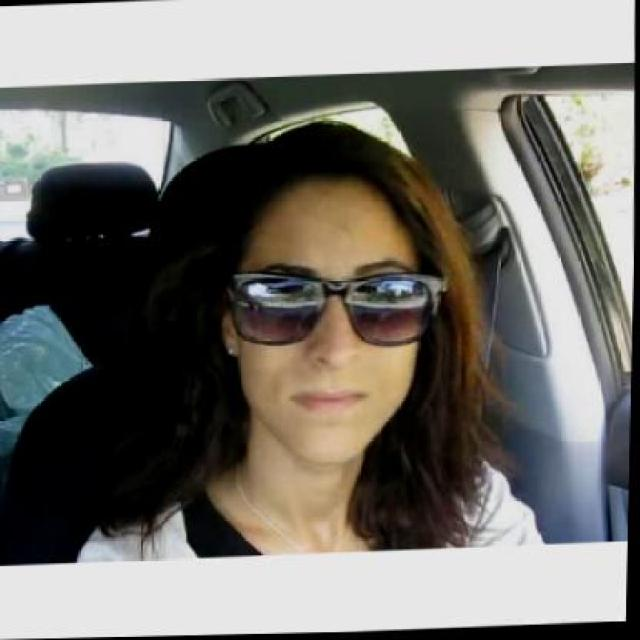attentif: (212, 120, 454, 471)
